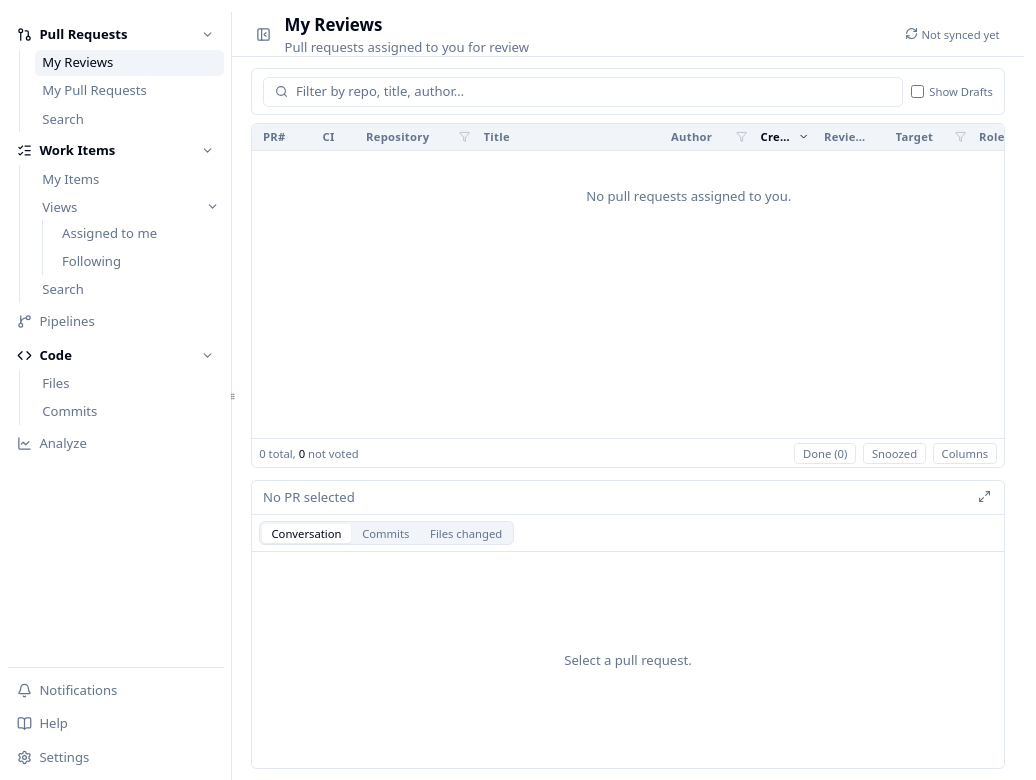
Test: App — Work Items (extra) › nests pinned work item views under Views and toggles their visibility
Expected: the text "No pull requests assigned to you." is shown, [586,187,791,205]
Expected: the button "Assigned to me" is shown, [54,220,224,246]
Collapsing the "Views" group hides the pinned children.
Click the button named "Collapse Views" at (212, 207), box [201,194,224,220]
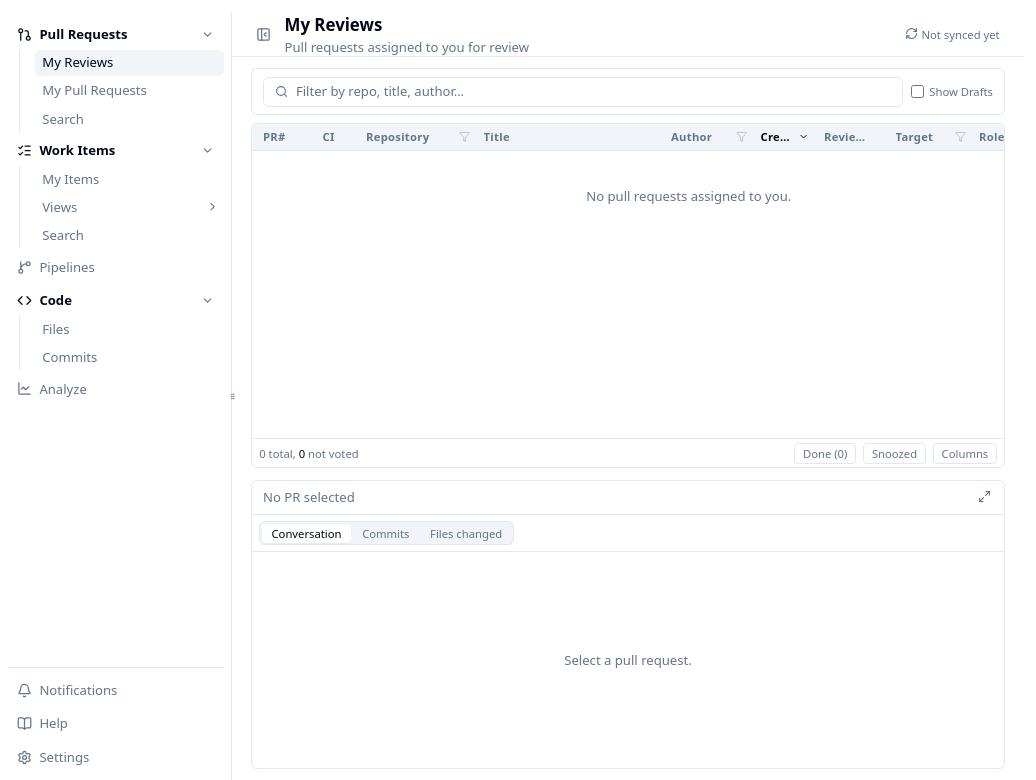
Expected: the button "Views" is shown, [35,194,199,220]
Expected: the button "Assigned to me" is gone
Expected: the button "Following" is gone
Expanding restores them.
Click the button named "Expand Views" at (212, 207), box [201,194,224,220]
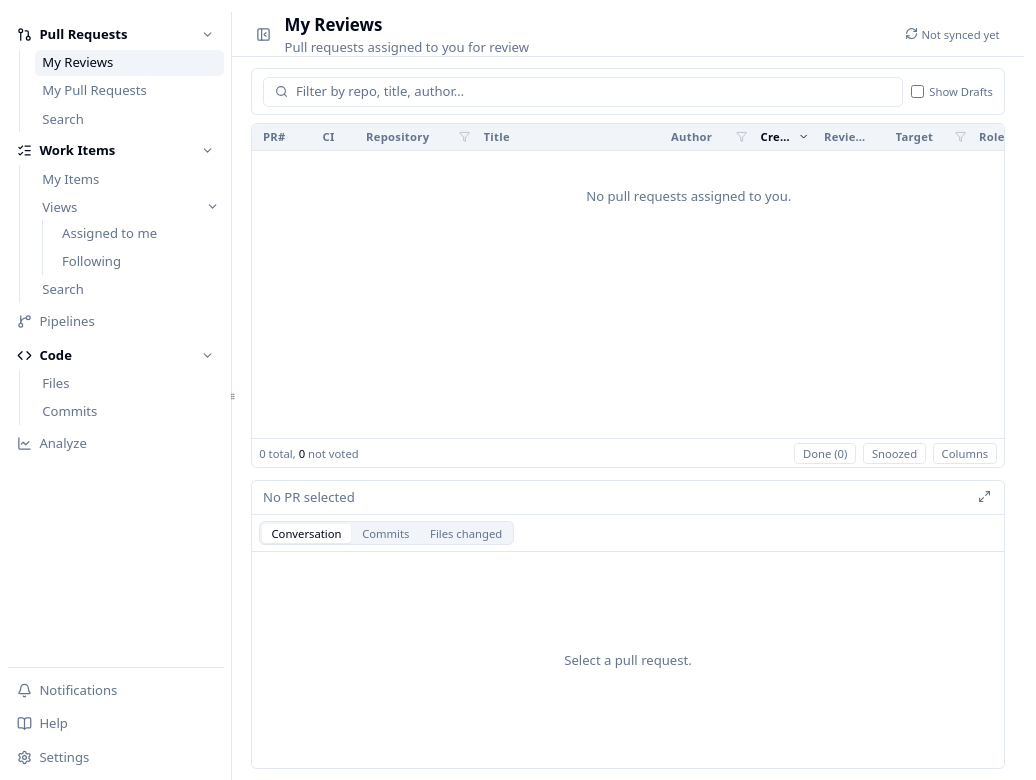
Expected: the button "Assigned to me" is shown, [54,220,224,246]
Expected: the button "Following" is shown, [54,248,224,275]
